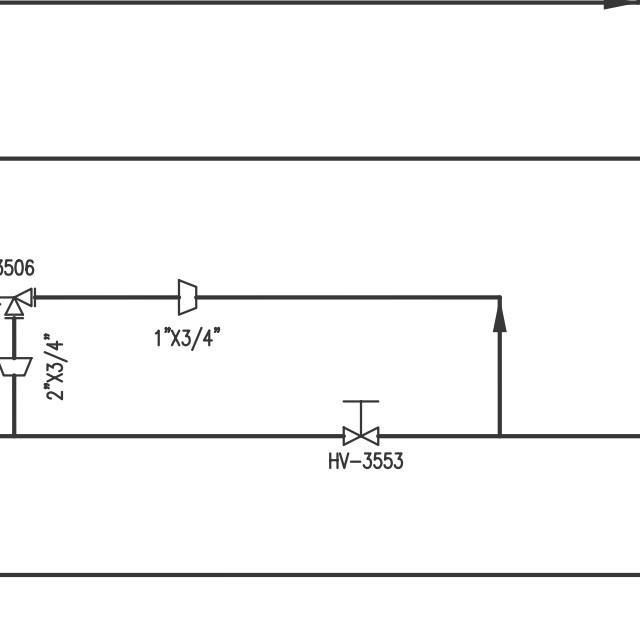HVWT: (335, 397, 384, 449)
SP: (172, 272, 201, 316), (0, 350, 34, 381)
